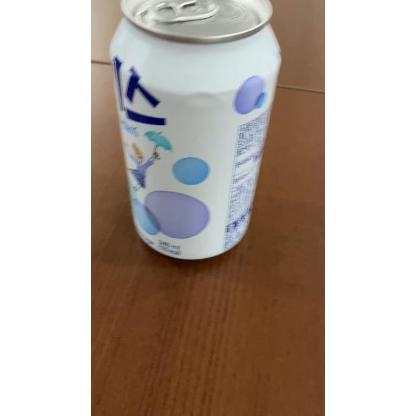Can: (110, 1, 282, 262)
